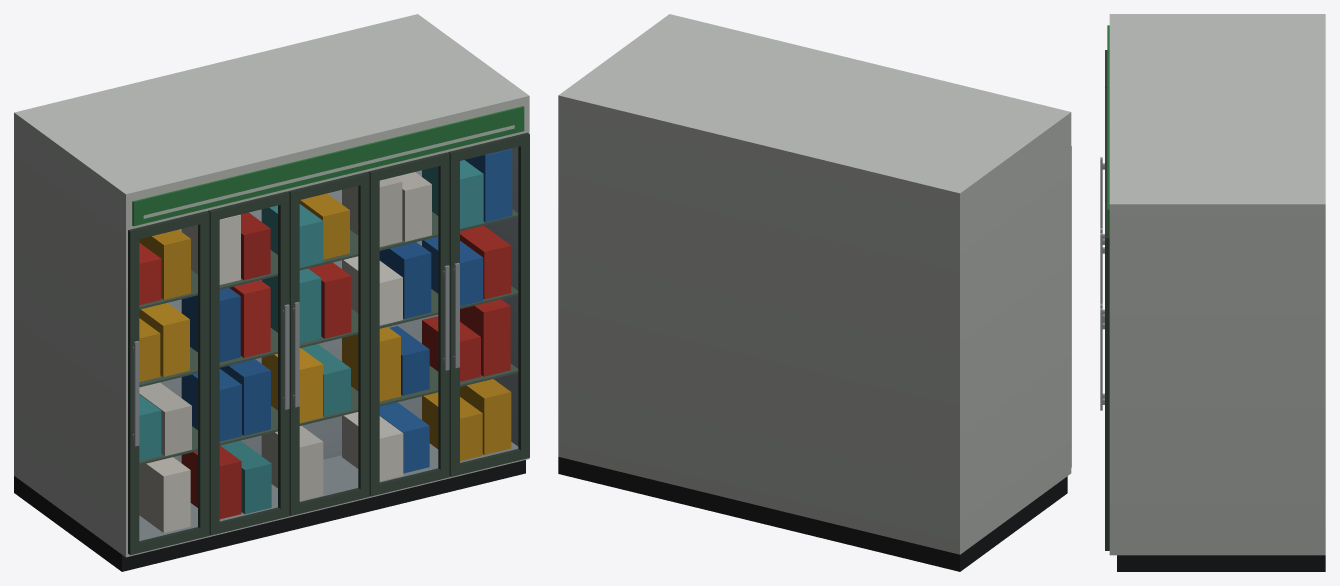
The model's file is appliance.freezer_upright.green.glb.
The picture shows the model from 3 angles, left to right: view 1: azimuth 30°, elevation 25°; view 2: azimuth 150°, elevation 25°; view 3: azimuth 270°, elevation 25°; orthographic projection. The views are drawn at different scales.
Visible parts, largest first — view 1: appliance_freezer_upright_green; view 2: appliance_freezer_upright_green; view 3: appliance_freezer_upright_green.
Boxes of the visible parts, <box> form: appliance_freezer_upright_green: <box>14,14,529,571</box>; appliance_freezer_upright_green: <box>558,14,1071,571</box>; appliance_freezer_upright_green: <box>1100,14,1325,571</box>.
Size of what is drawn, in the model's own units: 2.44 by 2.2 by 1.22.
